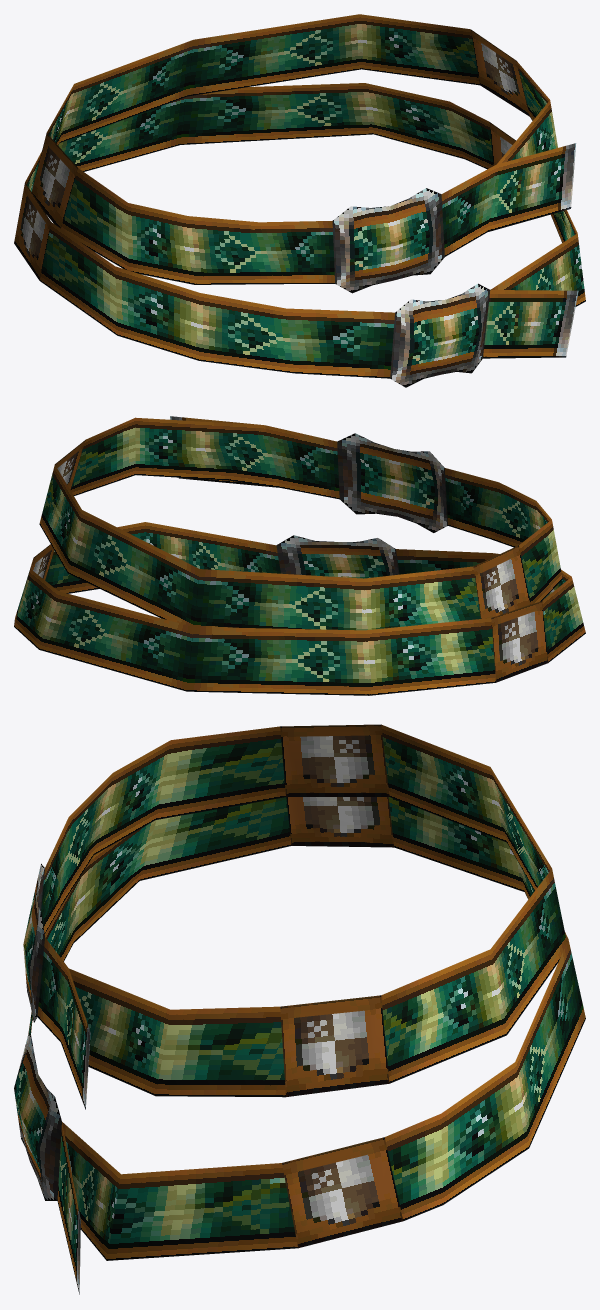
File: m_wst239.glb
3 views of the same model, one above another, from view 1: azimuth 30°, elevation 25°; view 2: azimuth 150°, elevation 25°; view 3: azimuth 270°, elevation 25° (orthographic). The views are drawn at different scales.
Bounding box in the file's own units: 38.34 × 17.19 × 28.32.
1 material, 1 textured.
